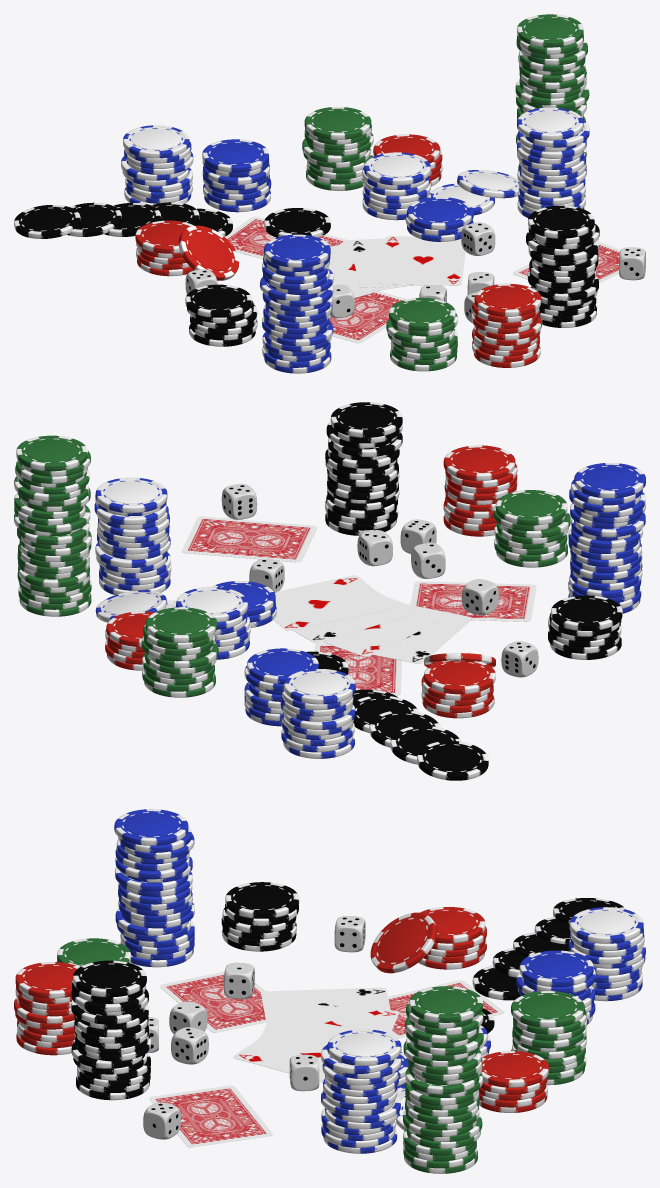
The model's file is Opener.fbx.
The picture shows the model from 3 angles, top to bottom: view 1: azimuth 30°, elevation 25°; view 2: azimuth 150°, elevation 25°; view 3: azimuth 270°, elevation 25°; orthographic projection. The views are drawn at different scales.
Parts seen in each view (by area): view 1: card.040, chips.556, card.041, chips.448, chips.511, chips.490, chips.562, chips.536, chips.579, chips.173, chips.496, chips.480 (+34 smaller); view 2: card.038, card.040, card.041, card.123, chips.173, card.045, card.044, chips.496, chips.464, chips.579, chips.511, chips.562 (+54 smaller); view 3: card.038, card.041, chips.556, card.040, card.123, card.045, chips.472, chips.536, chips.511, chips.496, chips.480, chips.490 (+71 smaller).
Boxes of the visible parts, bbox=[...] form: card.040: bbox=[380, 236, 465, 285]; chips.556: bbox=[178, 225, 238, 280]; card.041: bbox=[330, 291, 406, 343]; chips.448: bbox=[364, 152, 430, 185]; chips.511: bbox=[517, 14, 583, 47]; chips.490: bbox=[185, 284, 252, 317]; chips.562: bbox=[528, 205, 594, 238]; chips.536: bbox=[264, 234, 330, 267]; chips.579: bbox=[474, 283, 541, 316]; chips.173: bbox=[14, 205, 80, 238]; chips.496: bbox=[517, 107, 583, 140]; chips.480: bbox=[123, 125, 189, 158]; card.038: bbox=[182, 516, 317, 562]; card.040: bbox=[273, 575, 394, 630]; card.041: bbox=[410, 581, 536, 621]; card.123: bbox=[323, 597, 443, 656]; chips.173: bbox=[417, 741, 488, 780]; card.045: bbox=[373, 604, 471, 663]; card.044: bbox=[314, 643, 401, 695]; chips.496: bbox=[95, 477, 167, 513]; chips.464: bbox=[495, 490, 567, 525]; chips.579: bbox=[443, 445, 515, 480]; chips.511: bbox=[16, 435, 87, 471]; chips.562: bbox=[330, 402, 402, 437]; card.038: bbox=[149, 1085, 272, 1147]; card.041: bbox=[159, 971, 265, 1032]; chips.556: bbox=[370, 912, 437, 973]; card.040: bbox=[233, 1026, 329, 1082]; card.123: bbox=[262, 1002, 399, 1033]; card.045: bbox=[261, 987, 390, 1023]; chips.472: bbox=[519, 950, 593, 987]; chips.536: bbox=[114, 809, 188, 845]; chips.511: bbox=[409, 986, 483, 1022]; chips.496: bbox=[327, 1029, 401, 1065]; chips.480: bbox=[569, 907, 643, 943]; chips.490: bbox=[225, 882, 299, 918].
Size of the model in its own units: 1726 by 471 by 1708.
